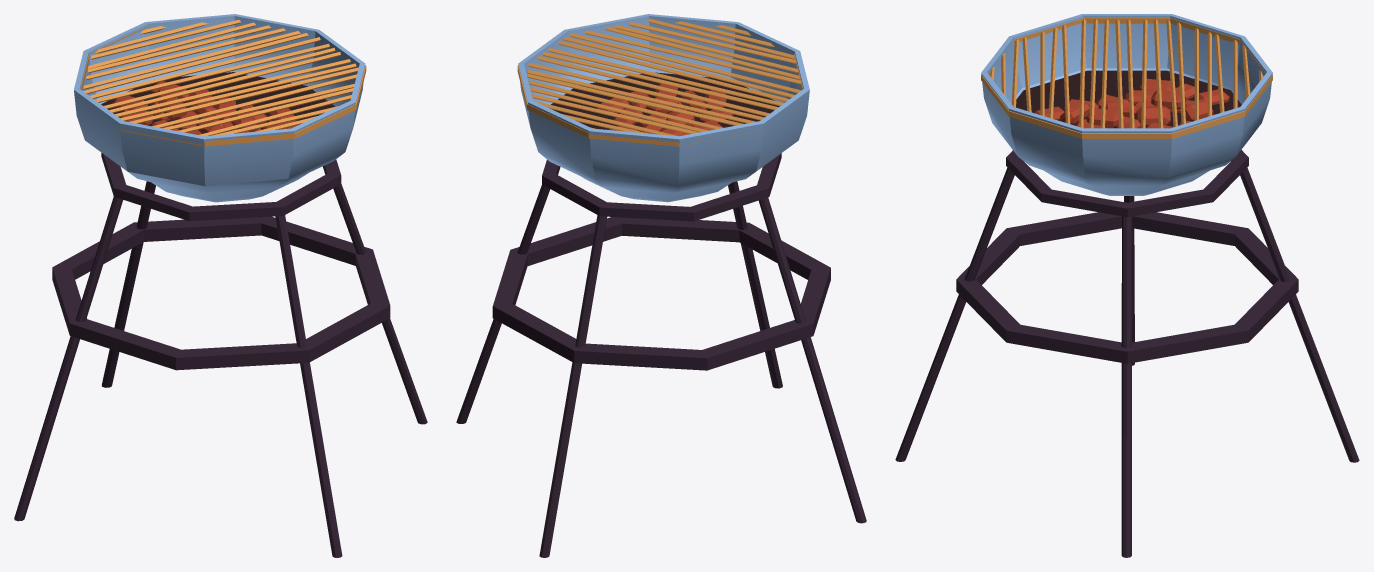
The model's file is CampingGrill.fbx.
The picture shows the model from 3 angles, left to right: view 1: azimuth 30°, elevation 25°; view 2: azimuth 150°, elevation 25°; view 3: azimuth 270°, elevation 25°; orthographic projection. The views are drawn at different scales.
Parts seen in each view (by area): view 1: Sphere.004, Rings.002, GrillGrate.001, Stand.002, Coal.001, Ash.001, Sphere.005; view 2: Sphere.004, Rings.002, GrillGrate.001, Stand.002, Ash.001, Coal.001, Sphere.005; view 3: Sphere.004, Rings.002, Stand.002, GrillGrate.001, Coal.001, Ash.001, Sphere.005.
Part boxes in pixels (<box>): Sphere.004: <box>74,14,365,202</box>; Rings.002: <box>52,153,390,370</box>; GrillGrate.001: <box>83,20,358,136</box>; Stand.002: <box>14,181,427,557</box>; Coal.001: <box>113,81,296,134</box>; Ash.001: <box>101,72,335,129</box>; Sphere.005: <box>80,26,366,146</box>; Sphere.004: <box>518,14,809,202</box>; Rings.002: <box>492,153,830,370</box>; GrillGrate.001: <box>527,18,801,136</box>; Stand.002: <box>456,181,866,557</box>; Ash.001: <box>551,72,779,129</box>; Coal.001: <box>597,83,732,136</box>; Sphere.005: <box>517,53,803,146</box>; Sphere.004: <box>981,14,1272,195</box>; Rings.002: <box>956,150,1298,363</box>; Stand.002: <box>895,167,1359,557</box>; GrillGrate.001: <box>989,19,1263,128</box>; Coal.001: <box>1035,78,1229,128</box>; Ash.001: <box>1016,70,1241,128</box>; Sphere.005: <box>981,18,1272,138</box>.
Bounding box in the file's own units: 76.74 × 70.56 × 76.74.
